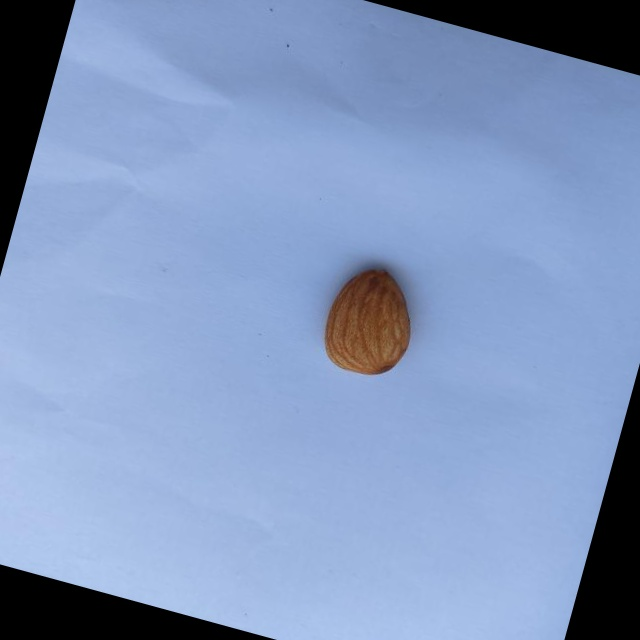grade1: (304, 248, 434, 392)
